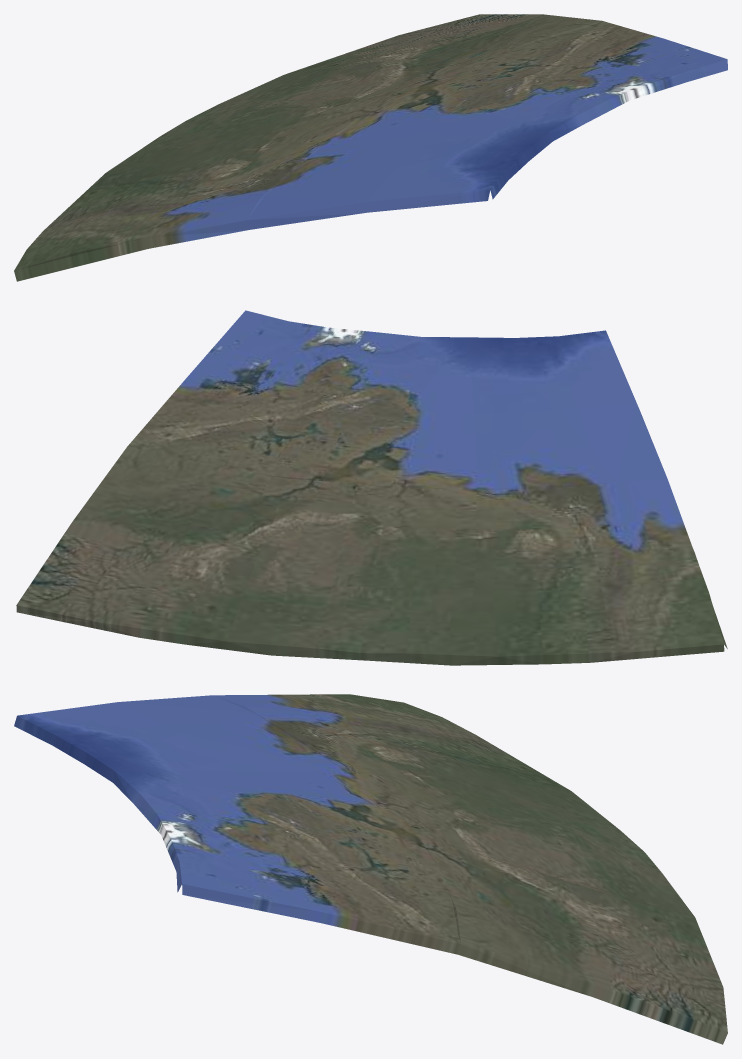
3 views of the same model, one above another, from view 1: azimuth 30°, elevation 25°; view 2: azimuth 150°, elevation 25°; view 3: azimuth 270°, elevation 25° (orthographic). The views are drawn at different scales.
Size of the model in its own units: 1750132 by 391123 by 1582772.
Materials: 1 (1 with a texture image).
